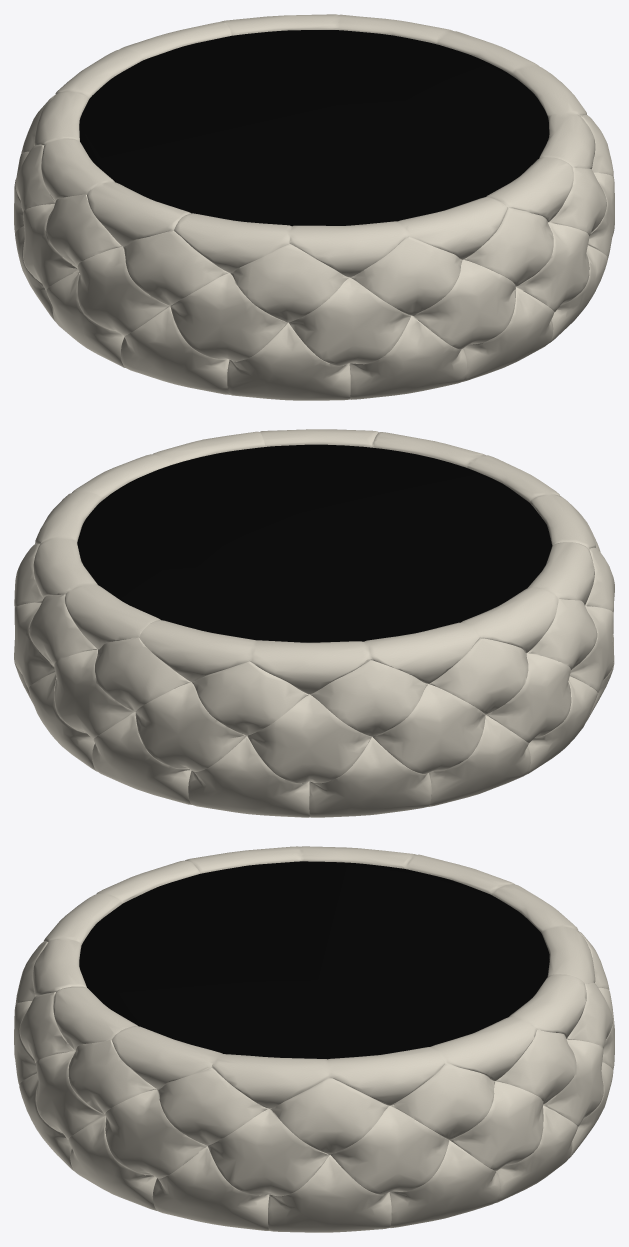
File: jett.fbx
3 views of the same model, one above another, from view 1: azimuth 30°, elevation 25°; view 2: azimuth 150°, elevation 25°; view 3: azimuth 270°, elevation 25° (orthographic).
Parts seen in each view (by area): view 1: Component1, Component4_1; view 2: Component1, Component4_1; view 3: Component1, Component4_1.
Part boxes in pixels (box(x1,y1,x2,y2)): Component1: box(14, 14, 614, 400); Component4_1: box(79, 30, 549, 226); Component1: box(14, 429, 614, 817); Component4_1: box(77, 444, 552, 642); Component1: box(14, 846, 614, 1232); Component4_1: box(79, 861, 549, 1059).
Size of the model in its own units: 41.65 by 13.41 by 41.71.
